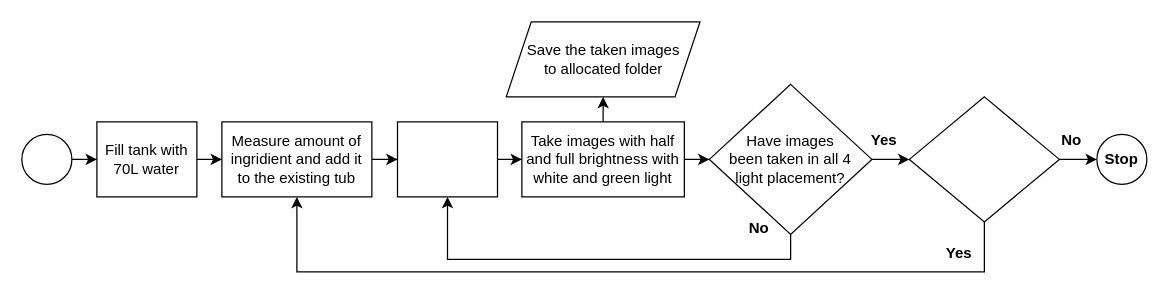
The diagram is 1169 pixels wide and 304 high, and some of its shapes have lost their labels. The shapes that lost their labels are listed below. From the top down, each one's centre as x and y in pixels, then its label:
At (x=46, y=158): "Start".
At (x=447, y=159): "Place light".
At (x=983, y=159): "Should there be run more test?".
